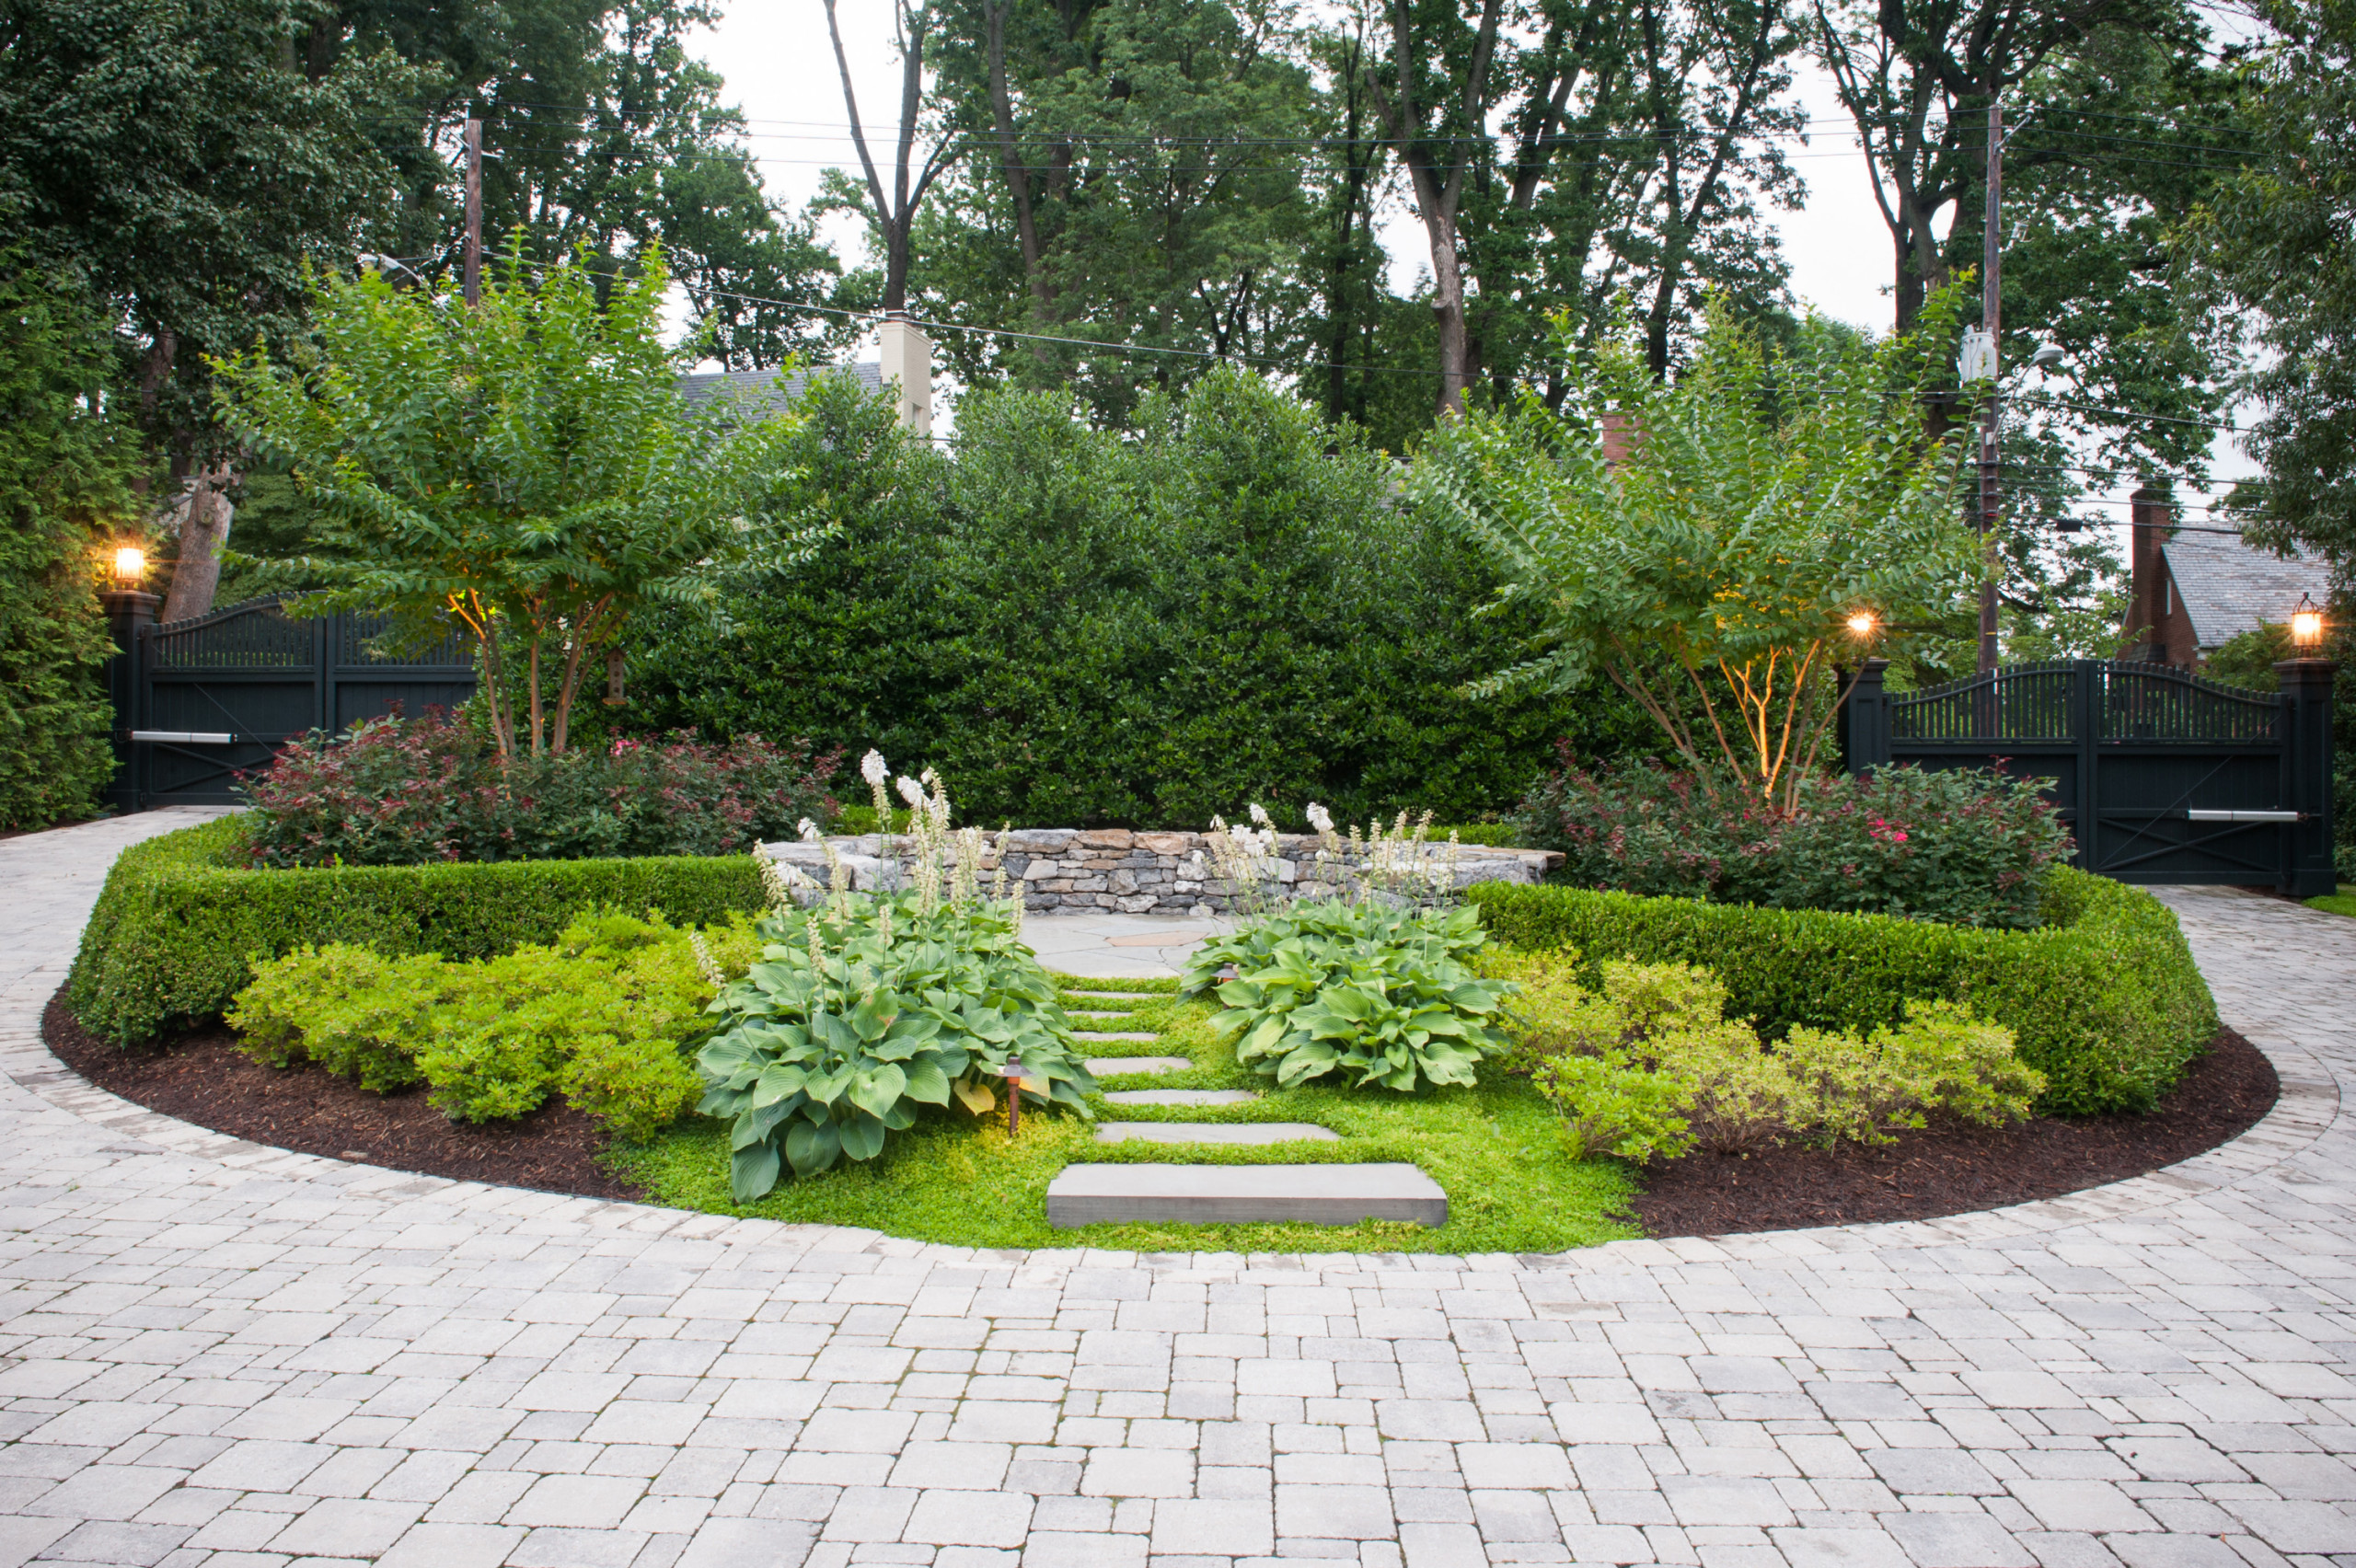tree: (1413, 299, 1995, 835), (219, 262, 723, 838)
